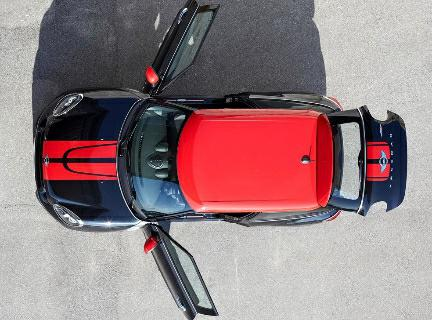MINI-JCWPACEMAN: (32, 84, 415, 239)
